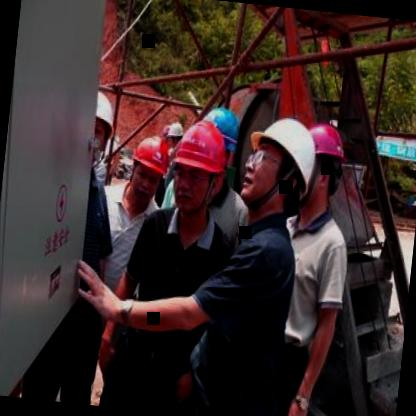helmet: (248, 108, 330, 218), (165, 112, 230, 217), (296, 115, 354, 213), (120, 128, 170, 210), (88, 90, 118, 160)
